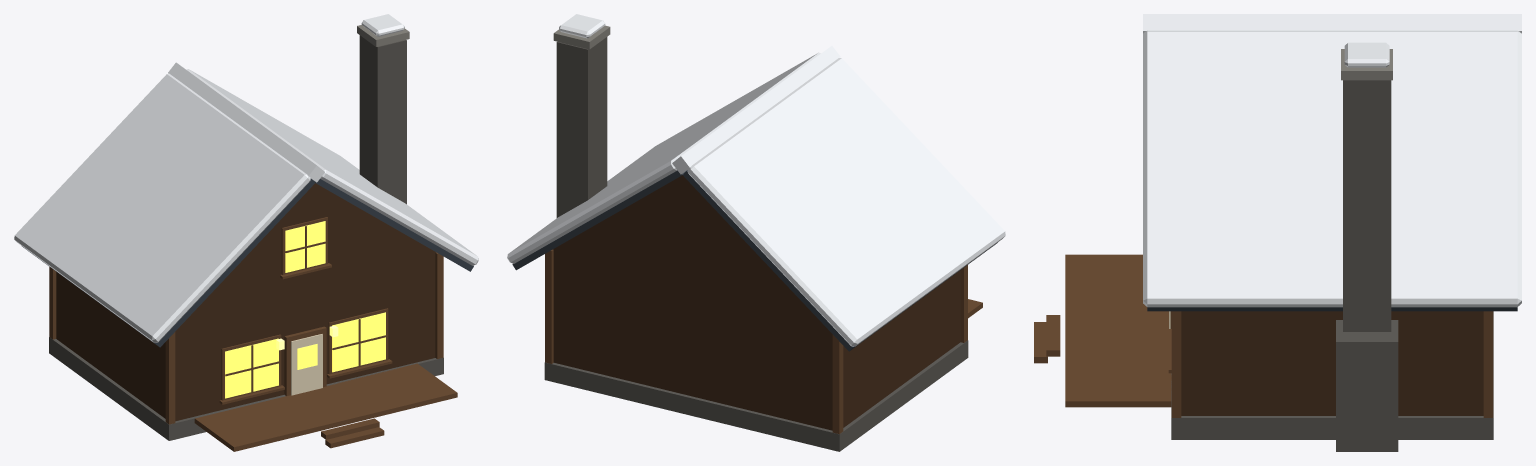
The model's file is lodge-tier-1-adirondack.glb.
3 views of the same model, side by side, from view 1: azimuth 30°, elevation 25°; view 2: azimuth 150°, elevation 25°; view 3: azimuth 270°, elevation 25° (orthographic). The views are drawn at different scales.
Visible parts, largest first — view 1: lodge-tier-1-adirondack; view 2: lodge-tier-1-adirondack; view 3: lodge-tier-1-adirondack.
Part boxes in pixels (x1,y1,x2,y2): lodge-tier-1-adirondack: [14, 14, 478, 451]; lodge-tier-1-adirondack: [507, 14, 1005, 451]; lodge-tier-1-adirondack: [1034, 14, 1521, 451].
Size of the model in its own units: 14.81 by 12.64 by 14.06.
